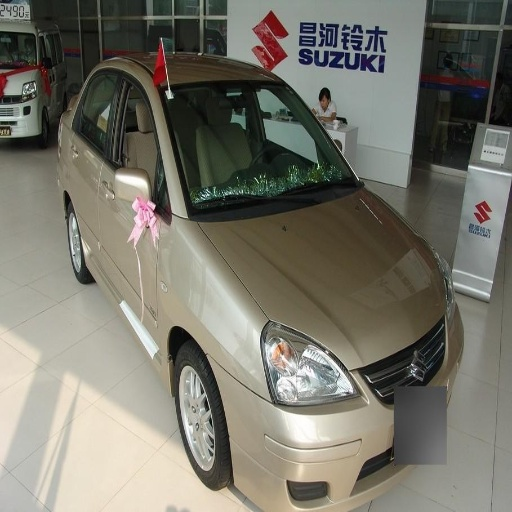front_bumper: (214, 347, 427, 511)
front_right_door: (105, 64, 161, 345)
front_right_light: (237, 320, 359, 409)
